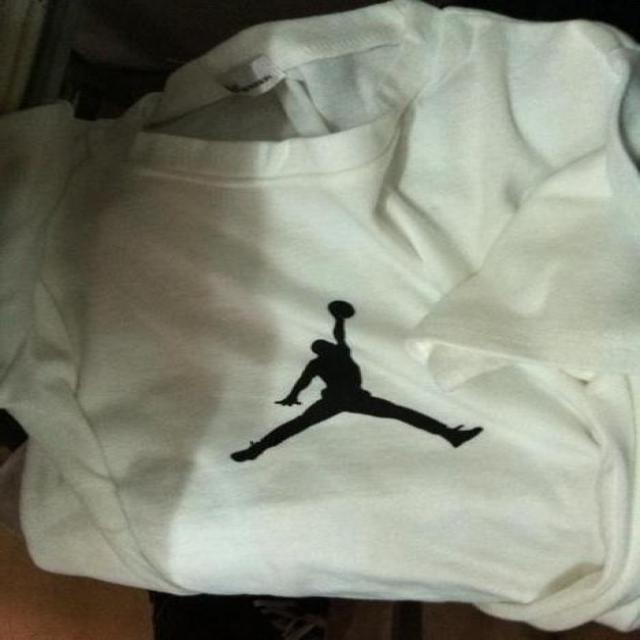short sleeve top: (0, 0, 640, 635)
